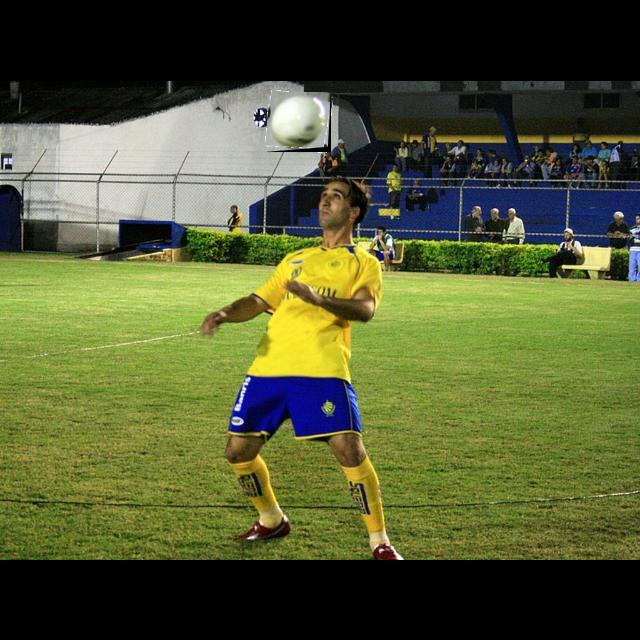Football: (267, 92, 331, 152)
